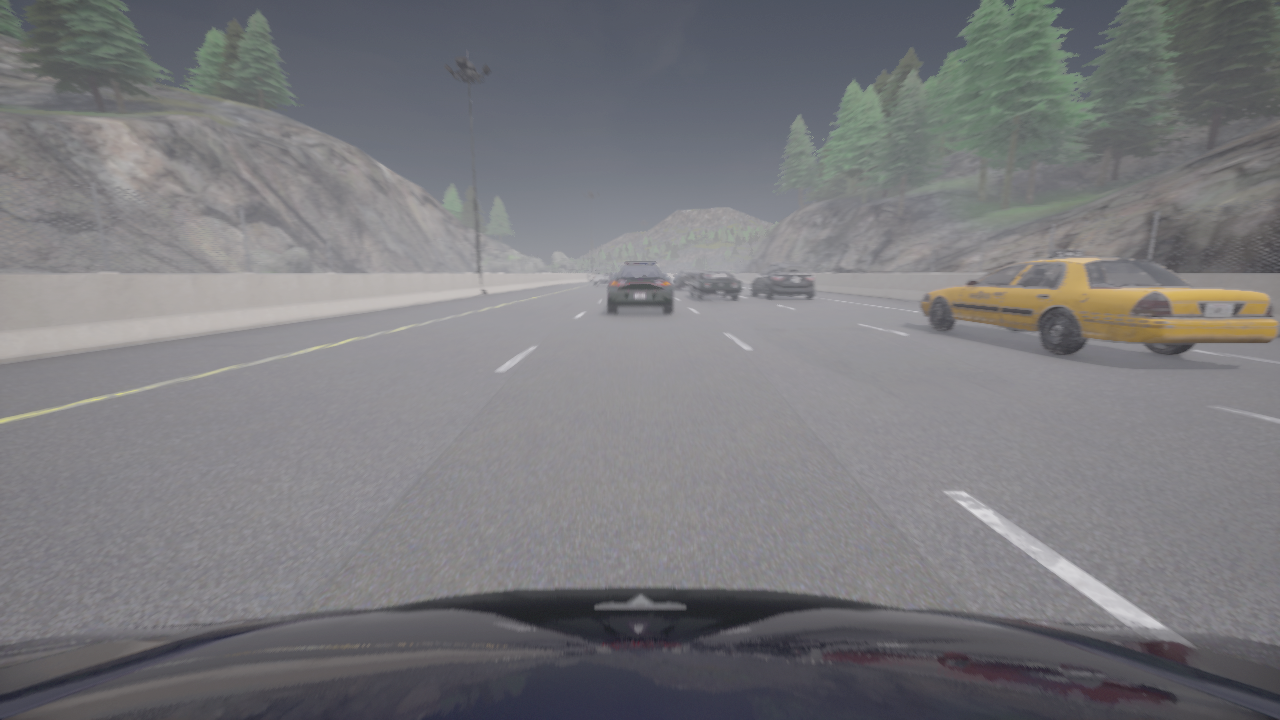cyclist: (0, 588, 1279, 719), (920, 250, 1278, 355), (607, 263, 672, 313), (751, 263, 814, 298), (690, 271, 740, 299), (672, 269, 698, 290), (592, 269, 612, 286), (699, 270, 708, 271)
